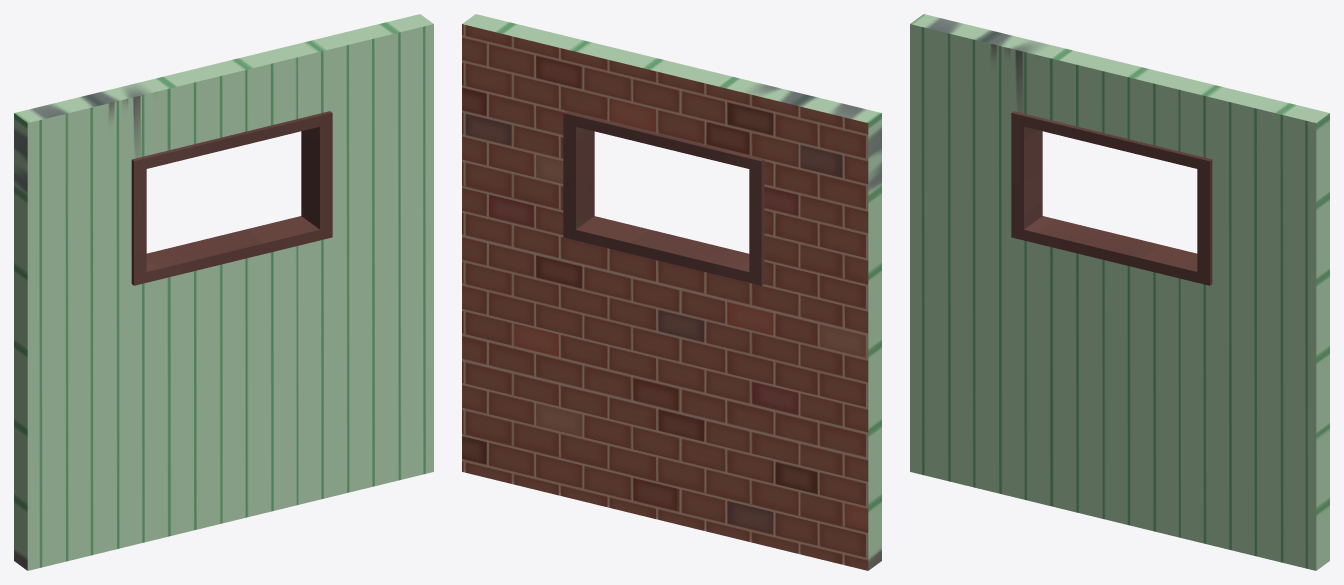
File: squareWindow.fbx
The picture shows the model from 3 angles, left to right: view 1: azimuth 30°, elevation 25°; view 2: azimuth 150°, elevation 25°; view 3: azimuth 330°, elevation 25°; orthographic projection.
Visible parts, largest first — view 1: squareWindow; view 2: squareWindow; view 3: squareWindow.
Boxes of the visible parts, x1,y1,x2,y2 form: squareWindow: (14, 14, 433, 570); squareWindow: (462, 14, 881, 570); squareWindow: (910, 14, 1329, 570).
Size of the model in its own units: 4.27 by 4.5 by 0.3434.
